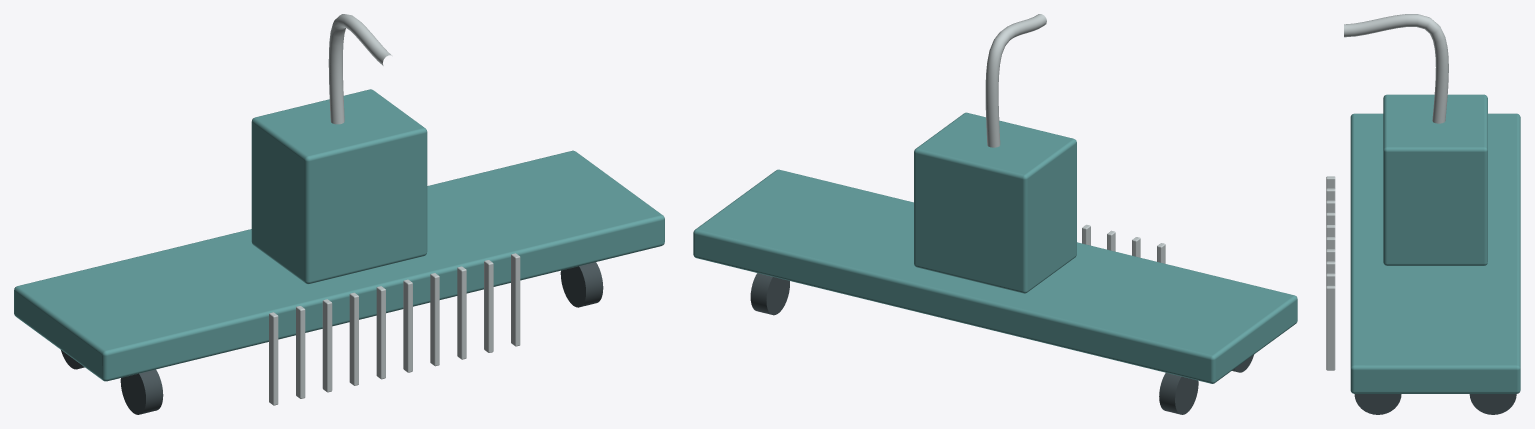
Rendered from hydroelectric-dam-infiltration-rack-cleaning-carriage-66100458__29337.glb.
3 views of the same model, side by side, from view 1: azimuth 30°, elevation 25°; view 2: azimuth 150°, elevation 25°; view 3: azimuth 270°, elevation 25° (orthographic). The views are drawn at different scales.
Visible parts, largest first — view 1: rack-cleaning-carriage; view 2: rack-cleaning-carriage; view 3: rack-cleaning-carriage.
Part boxes in pixels (x1,y1,x2,y2): rack-cleaning-carriage: [14, 14, 664, 414]; rack-cleaning-carriage: [693, 14, 1297, 414]; rack-cleaning-carriage: [1326, 14, 1520, 414].
Size of the model in its own units: 2.3 by 1.27 by 0.7425.
